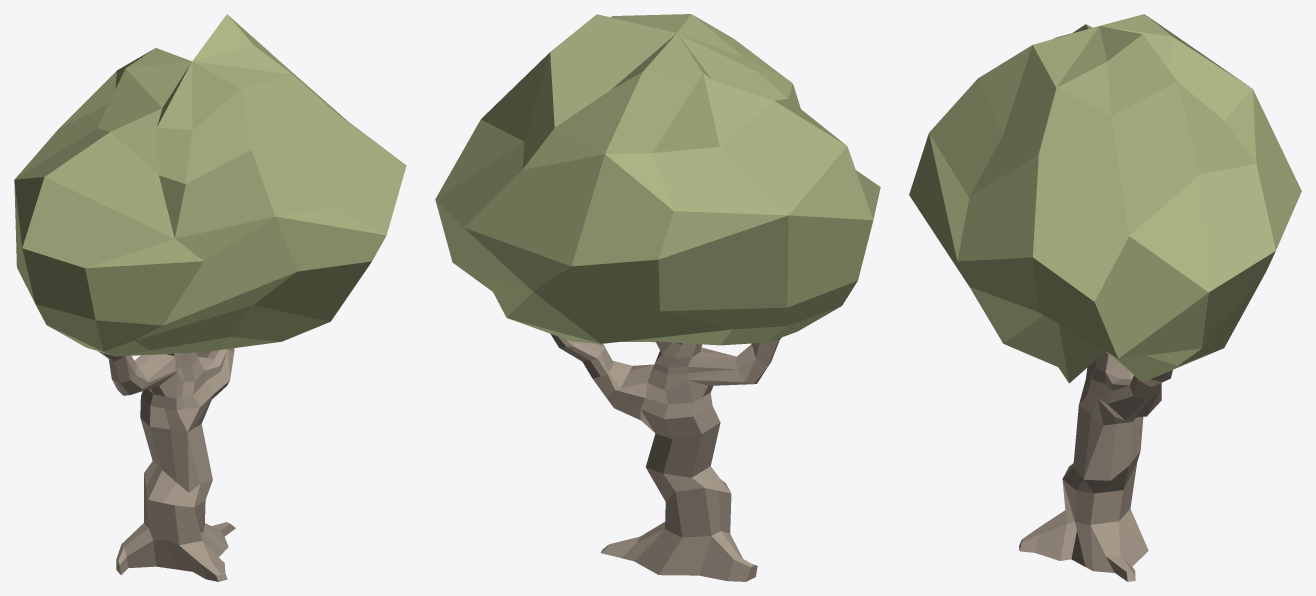
Rendered from ER_Asset_Shrub02.fbx.
3 renders of one model, left to right at view 1: azimuth 30°, elevation 25°; view 2: azimuth 150°, elevation 25°; view 3: azimuth 270°, elevation 25°, orthographic. The views are drawn at different scales.
Parts seen in each view (by area): view 1: polySurface6466; view 2: polySurface6466; view 3: polySurface6466.
Part boxes in pixels (box(x1,y1,x2,y2)): polySurface6466: box(14, 14, 406, 581); polySurface6466: box(435, 14, 880, 581); polySurface6466: box(909, 14, 1301, 581).
Size of the model in its own units: 1.45 by 1.93 by 1.24.
